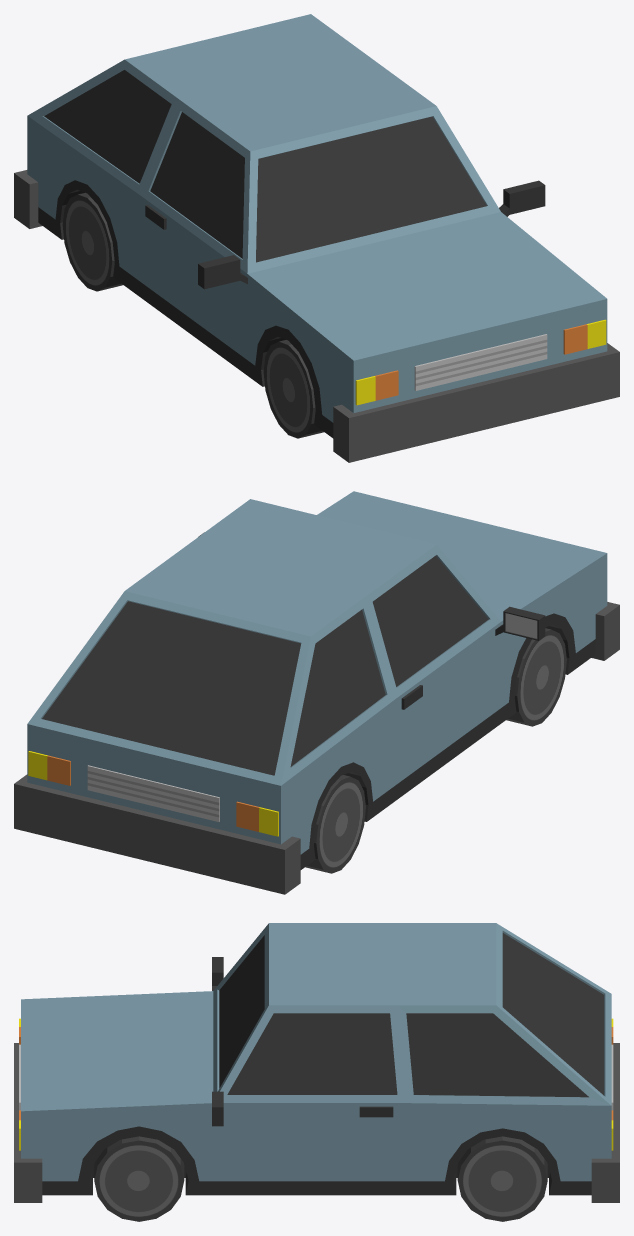
Rendered from car01_color01.fbx.
3 renders of one model, top to bottom at view 1: azimuth 30°, elevation 25°; view 2: azimuth 150°, elevation 25°; view 3: azimuth 270°, elevation 25°, orthographic. The views are drawn at different scales.
Visible parts, largest first — view 1: Cube.198, Cube.392, Cube.395; view 2: Cube.198, Cube.395, Cube.392; view 3: Cube.198, Cube.393, Cube.394.
Part boxes in pixels (x1=…): Cube.198: x1=14, y1=14, x2=619, y2=462; Cube.392: x1=263, y1=340, x2=323, y2=438; Cube.395: x1=62, y1=192, x2=122, y2=291; Cube.198: x1=14, y1=491, x2=619, y2=894; Cube.395: x1=305, y1=775, x2=365, y2=873; Cube.392: x1=506, y1=628, x2=566, y2=726; Cube.198: x1=14, y1=923, x2=619, y2=1202; Cube.393: x1=457, y1=1136, x2=547, y2=1221; Cube.394: x1=94, y1=1136, x2=184, y2=1221.
Bounding box in the file's own units: 269 × 168 × 457.
